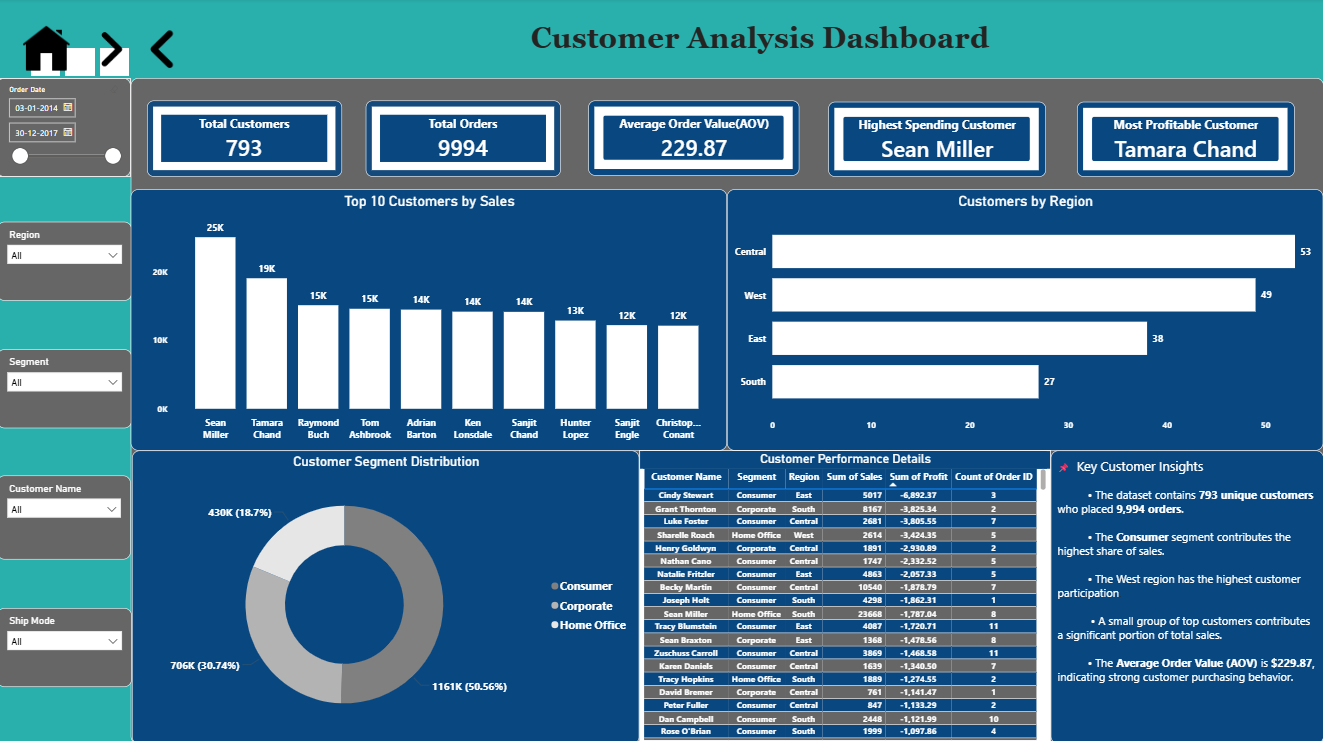

This screenshot's page, from the dashboard's own definition file:
{"tool":"powerbi","page":{"name":"Page 3","canvas":[1920,1080],"ordinal":2},"visuals":[{"type":"textbox","box":[193,116,1727,964],"z":0},{"type":"textbox","box":[747.4,29,714.8,79.6],"z":1000},{"type":"cardVisual","fields":{"Data":["'Sales Data$'FilterDatabase.Total Customers"]},"box":[217.2,148.4,282.3,110.4],"z":2000},{"type":"cardVisual","fields":{"Data":["'Sales Data$'FilterDatabase.Total Orders"]},"box":[533.8,148.4,282.3,110.4],"z":3000},{"type":"cardVisual","fields":{"Data":["'Sales Data$'FilterDatabase.Average Orders value"]},"box":[856,148.4,305.8,108.6],"z":4000},{"type":"cardVisual","fields":{"Data":["'Sales Data$'FilterDatabase.Highest Spending Customer"]},"box":[1203.4,150.2,314.9,108.6],"z":5000},{"type":"cardVisual","fields":{"Data":["'Sales Data$'FilterDatabase.Customer Maximum Profit"]},"box":[1563.5,150.2,314.9,108.6],"z":6000},{"type":"slicer","fields":{"Values":["'Sales Data$'FilterDatabase.Order Date"]},"box":[0,115.8,193.6,143],"z":7000},{"type":"slicer","fields":{"Values":["'Sales Data$'FilterDatabase.Region"]},"box":[0,323.9,195.4,114],"z":8000},{"type":"slicer","fields":{"Values":["'Sales Data$'FilterDatabase.Segment"]},"box":[0,508.5,195.4,114],"z":9000},{"type":"slicer","fields":{"Values":["'Sales Data$'FilterDatabase.Customer Name"]},"box":[0,691.3,193.6,121.2],"z":10000},{"type":"slicer","fields":{"Values":["'Sales Data$'FilterDatabase.Ship Mode"]},"box":[0,883.1,195.4,114],"z":11000},{"type":"clusteredColumnChart","title":"Top 10 Customers by Sales","fields":{"Category":["'Sales Data$'FilterDatabase.Customer Name"],"Y":["Sum('Sales Data$'FilterDatabase.Sales)"]},"box":[193.6,276.9,863.2,378.2],"z":12000},{"type":"clusteredBarChart","title":"Customers by Region","fields":{"Category":["'Sales Data$'FilterDatabase.Region"],"Y":["CountNonNull('Sales Data$'FilterDatabase.Order ID)"]},"box":[1056.8,276.9,863.2,378.2],"z":13000},{"type":"donutChart","title":"Customer Segment Distribution","fields":{"Y":["Sum('Sales Data$'FilterDatabase.Sales)"],"Category":["'Sales Data$'FilterDatabase.Segment"]},"box":[195.4,655.1,734.7,425.3],"z":14000},{"type":"tableEx","title":"Customer Performance Details","fields":{"Values":["'Sales Data$'FilterDatabase.Customer Name","'Sales Data$'FilterDatabase.Segment","'Sales Data$'FilterDatabase.Region","Sum('Sales Data$'FilterDatabase.Sales)","Sum('Sales Data$'FilterDatabase.Profit)","'Sales Data$'FilterDatabase.Order ID"]},"box":[930,655,595,425],"z":15000},{"type":"textbox","box":[1525,655,395,425],"z":16000},{"type":"image","box":[107,36,119,76],"z":17000},{"type":"image","box":[167,32,144,83],"z":18000},{"type":"image","box":[36.2,32.6,70.6,83.2],"z":19000}]}

Visuals, with their boxes in screenshot pixels (x1, y1, x2, y2), scaled from the page's 1920x1080 canvas onto the 1323x741 screenshot:
textbox: box(133, 80, 1322, 740)
textbox: box(515, 20, 1008, 75)
cardVisual - 'Sales Data$'FilterDatabase.Total Customers: box(150, 102, 344, 178)
cardVisual - 'Sales Data$'FilterDatabase.Total Orders: box(368, 102, 562, 178)
cardVisual - 'Sales Data$'FilterDatabase.Average Orders value: box(590, 102, 801, 176)
cardVisual - 'Sales Data$'FilterDatabase.Highest Spending Customer: box(829, 103, 1046, 178)
cardVisual - 'Sales Data$'FilterDatabase.Customer Maximum Profit: box(1077, 103, 1294, 178)
slicer - 'Sales Data$'FilterDatabase.Order Date: box(0, 79, 133, 178)
slicer - 'Sales Data$'FilterDatabase.Region: box(0, 222, 135, 300)
slicer - 'Sales Data$'FilterDatabase.Segment: box(0, 349, 135, 427)
slicer - 'Sales Data$'FilterDatabase.Customer Name: box(0, 474, 133, 557)
slicer - 'Sales Data$'FilterDatabase.Ship Mode: box(0, 606, 135, 684)
"Top 10 Customers by Sales" clusteredColumnChart: box(133, 190, 728, 449)
"Customers by Region" clusteredBarChart: box(728, 190, 1322, 449)
"Customer Segment Distribution" donutChart: box(135, 449, 641, 740)
"Customer Performance Details" tableEx: box(641, 449, 1051, 740)
textbox: box(1051, 449, 1322, 740)
image: box(74, 25, 156, 77)
image: box(115, 22, 214, 79)
image: box(25, 22, 74, 79)
